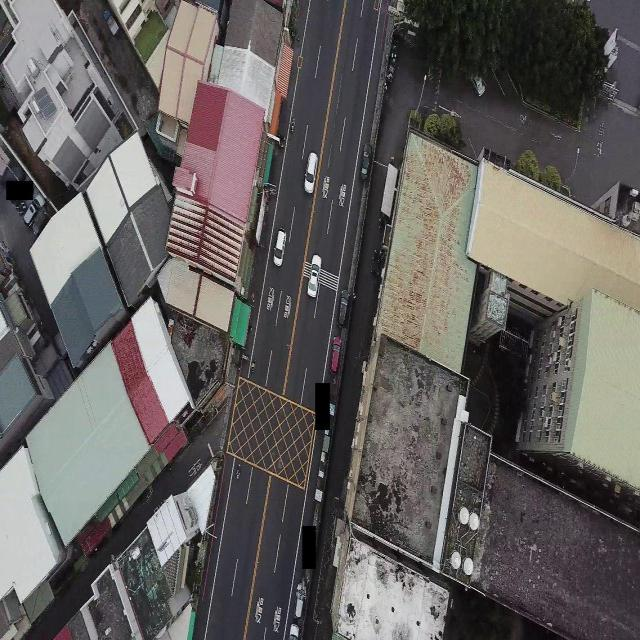bike: (373, 615, 381, 637), (236, 462, 242, 481), (251, 362, 256, 378)
car: (308, 250, 322, 304), (270, 227, 288, 267), (302, 151, 319, 193), (292, 580, 307, 620), (337, 283, 349, 328), (329, 334, 341, 375), (360, 143, 371, 186)
